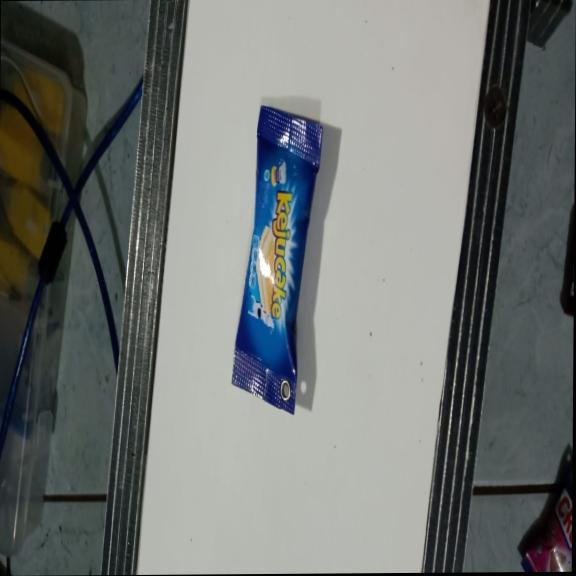Plastik: (229, 102, 322, 415)
